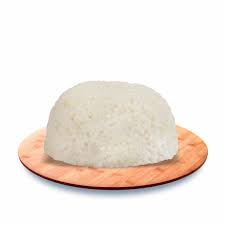Nasi putih: (42, 77, 183, 168)
